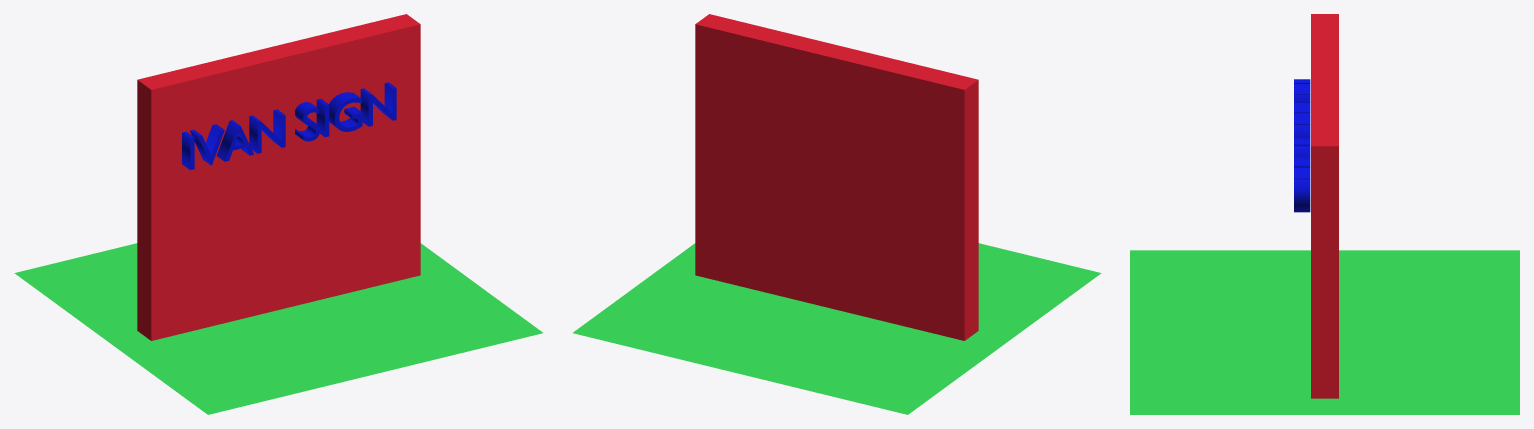
Rendered from twtw.gltf.
The picture shows the model from 3 angles, left to right: view 1: azimuth 30°, elevation 25°; view 2: azimuth 150°, elevation 25°; view 3: azimuth 270°, elevation 25°; orthographic projection.
Parts seen in each view (by area): view 1: Cube, Plane, Text; view 2: Cube, Plane; view 3: Plane, Cube, Text.
Boxes of the visible parts, x1,y1,x2,y2 form: Cube: (137,14,420,340); Plane: (14,243,542,414); Text: (182,82,396,170); Cube: (695,14,978,340); Plane: (573,243,1101,414); Plane: (1130,250,1519,414); Cube: (1311,14,1338,398); Text: (1294,79,1310,212).
Bounding box in the file's own units: 7.57 × 5.46 × 7.57.
